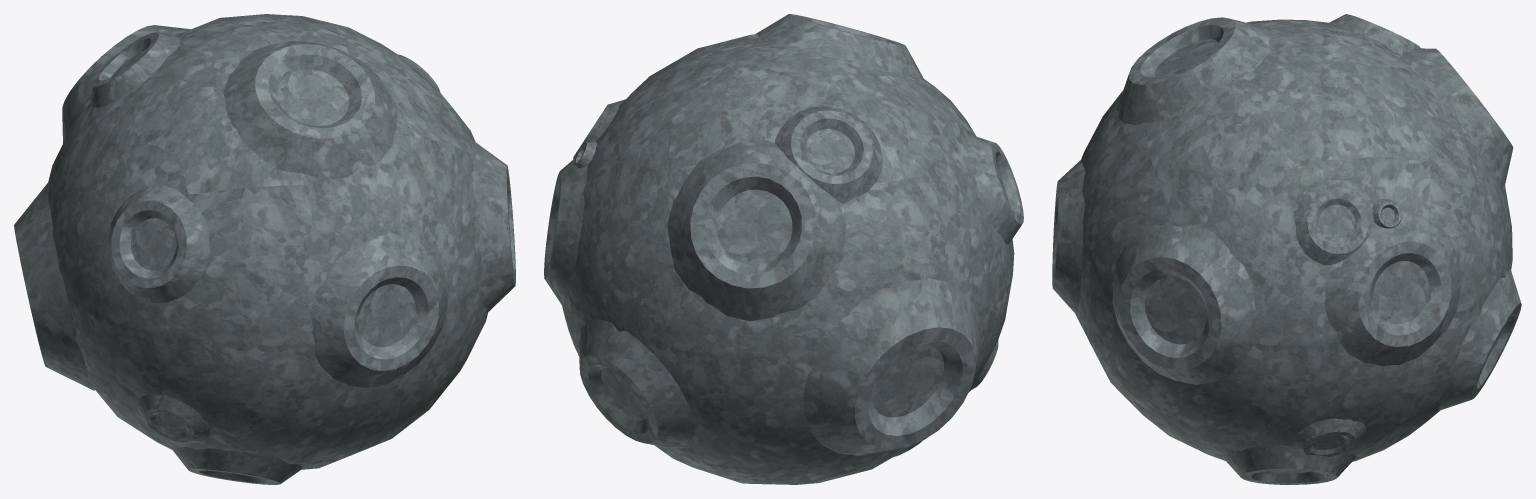
Rendered from Moon.fbx.
3 views of the same model, side by side, from view 1: azimuth 30°, elevation 25°; view 2: azimuth 150°, elevation 25°; view 3: azimuth 270°, elevation 25° (orthographic). The views are drawn at different scales.
Visible parts, largest first — view 1: mergedBlocks; view 2: mergedBlocks; view 3: mergedBlocks.
Part boxes in pixels (<box>): mergedBlocks: <box>14,14,515,484</box>; mergedBlocks: <box>544,14,1023,484</box>; mergedBlocks: <box>1052,14,1521,484</box>.
Bounding box in the file's own units: 31.87 × 30.77 × 31.27.
Materials: 2 (2 with a texture image).
